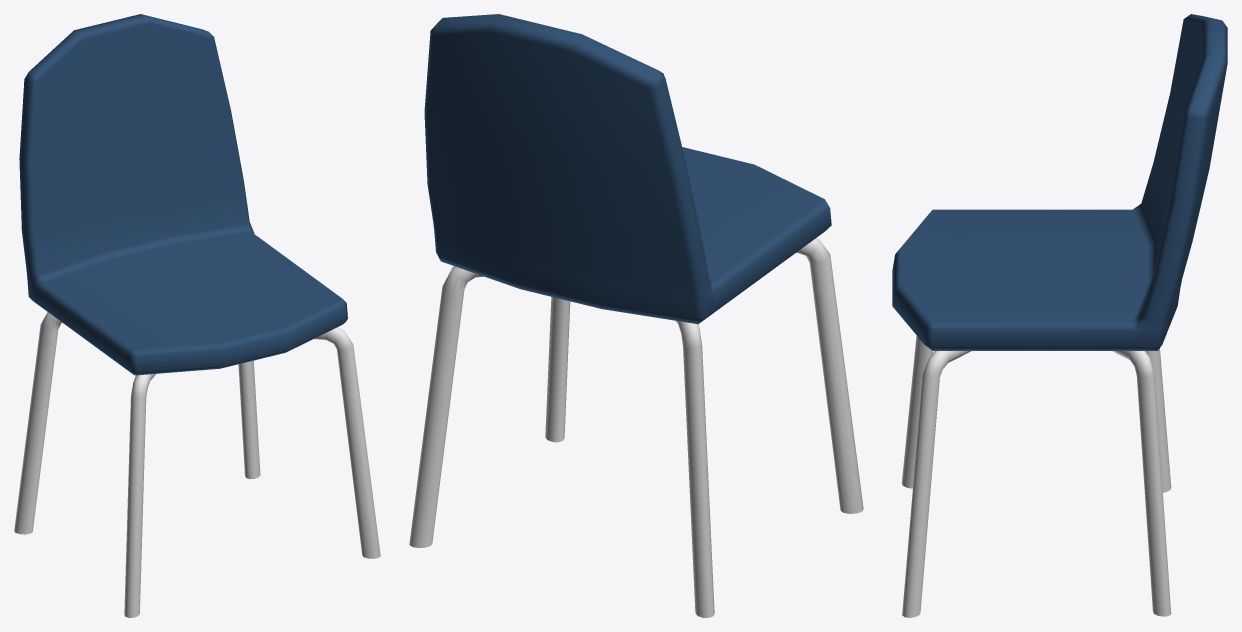
Rendered from theme01_chair.fbx.
3 views of the same model, side by side, from view 1: azimuth 30°, elevation 25°; view 2: azimuth 150°, elevation 25°; view 3: azimuth 270°, elevation 25° (orthographic). The views are drawn at different scales.
Visible parts, largest first — view 1: chair; view 2: chair; view 3: chair.
Boxes of the visible parts, x1,y1,x2,y2 form: chair: (14, 14, 380, 617); chair: (409, 14, 863, 617); chair: (892, 14, 1227, 617).
Bounding box in the file's own units: 58.68 × 102 × 60.55.
